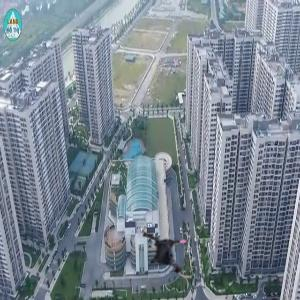drone: (133, 219, 203, 289)
